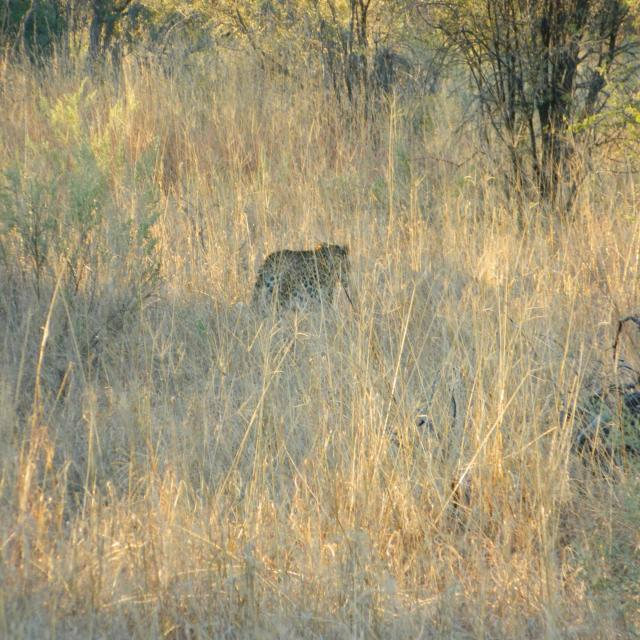Leopard: (251, 243, 351, 322)
